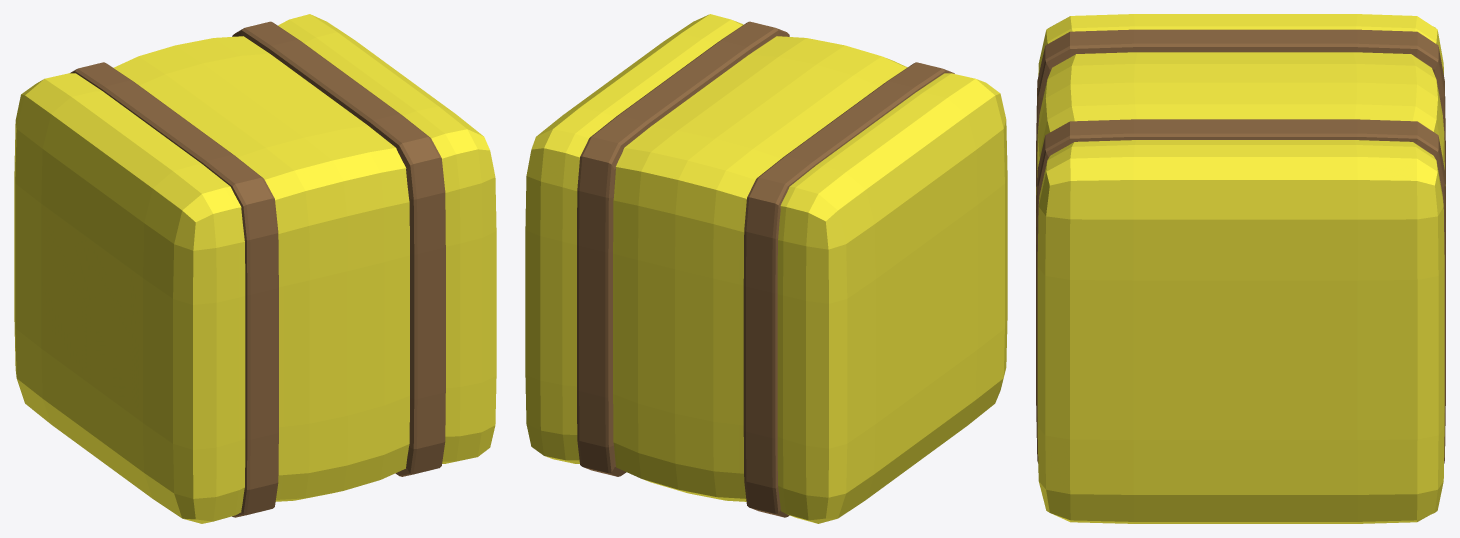
The model's file is paja.fbx.
3 renders of one model, left to right at view 1: azimuth 30°, elevation 25°; view 2: azimuth 150°, elevation 25°; view 3: azimuth 270°, elevation 25°, orthographic. The views are drawn at different scales.
Parts seen in each view (by area): view 1: Cube.032; view 2: Cube.032; view 3: Cube.032.
Boxes of the visible parts, x1,y1,x2,y2 form: Cube.032: [14, 14, 496, 523]; Cube.032: [525, 14, 1007, 523]; Cube.032: [1036, 14, 1445, 523].
Size of the model in its own units: 200 by 200 by 200.
